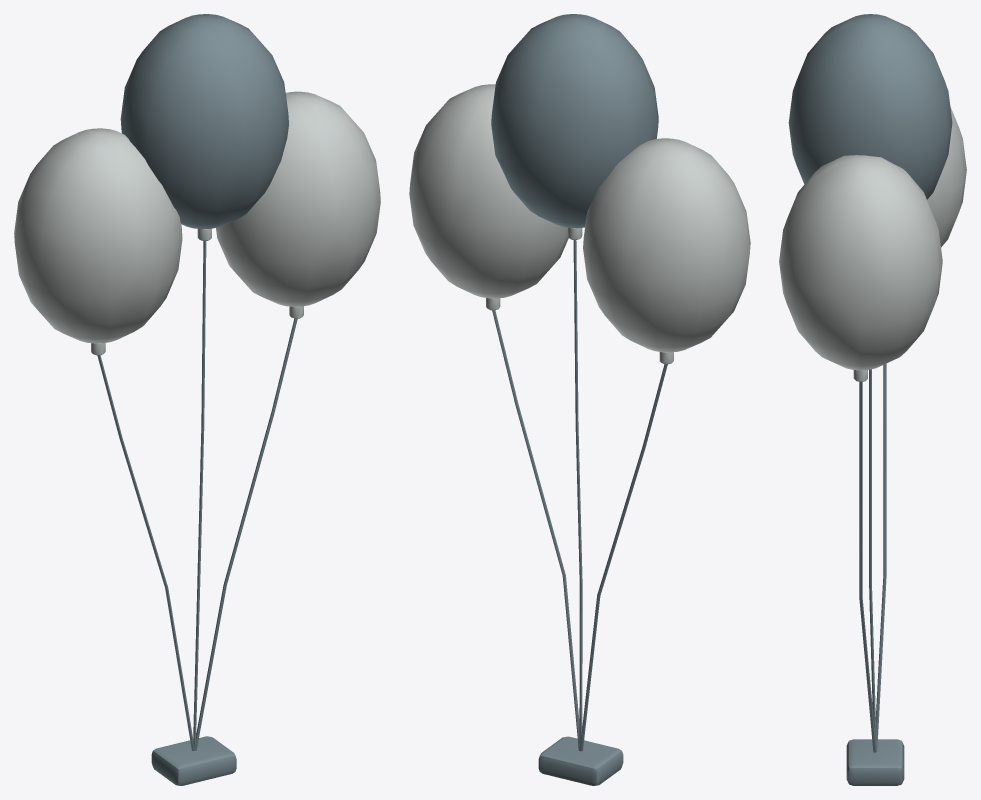
Rendered from balloons.glb.
3 renders of one model, left to right at view 1: azimuth 30°, elevation 25°; view 2: azimuth 150°, elevation 25°; view 3: azimuth 270°, elevation 25°, orthographic.
Visible parts, largest first — view 1: inflated_balloon, inflated_balloon.001, inflated_balloon.002, balloon_weight, string.001, string.002, string; view 2: inflated_balloon, inflated_balloon.001, inflated_balloon.002, balloon_weight, string.001, string.002, string; view 3: inflated_balloon.002, inflated_balloon.001, balloon_weight, inflated_balloon, string, string.002, string.001.
Part boxes in pixels (x1,y1,x2,y2): inflated_balloon: (14,128,182,343); inflated_balloon.001: (120,14,288,229); inflated_balloon.002: (216,91,380,306); balloon_weight: (151,736,236,785); string.001: (193,241,206,750); string.002: (195,318,297,750); string: (97,355,193,750); inflated_balloon: (583,138,750,352); inflated_balloon.001: (491,14,658,228); inflated_balloon.002: (409,84,568,298); balloon_weight: (538,736,623,785); string.001: (573,240,582,750); string.002: (492,310,579,750); string: (580,364,667,751); inflated_balloon.002: (779,155,942,370); inflated_balloon.001: (788,14,952,199); balloon_weight: (846,739,904,785); inflated_balloon: (927,107,966,247); string: (875,363,886,751); string.002: (859,382,876,752); string.001: (869,369,876,749).
Bounding box in the file's own units: 0.81 × 1.73 × 0.39.
